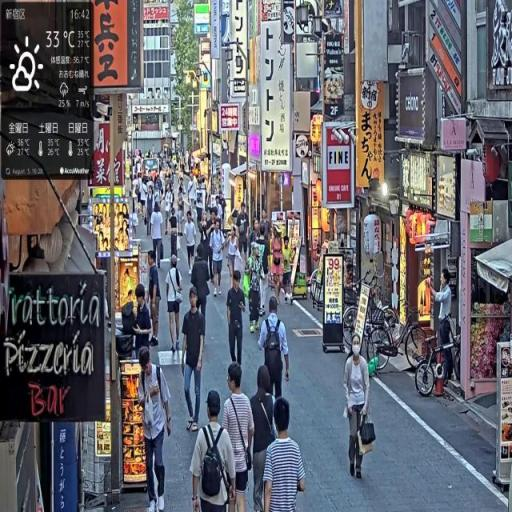person: (190, 389, 238, 512), (138, 345, 173, 512), (264, 396, 309, 512), (223, 363, 256, 512), (250, 365, 279, 511), (344, 334, 372, 481), (259, 296, 292, 408), (182, 288, 207, 435), (435, 269, 454, 389), (191, 241, 215, 335), (246, 235, 267, 336), (166, 252, 185, 359), (228, 271, 248, 370), (147, 250, 163, 343), (210, 219, 226, 299), (237, 203, 252, 273), (151, 203, 166, 272), (184, 212, 199, 275)
